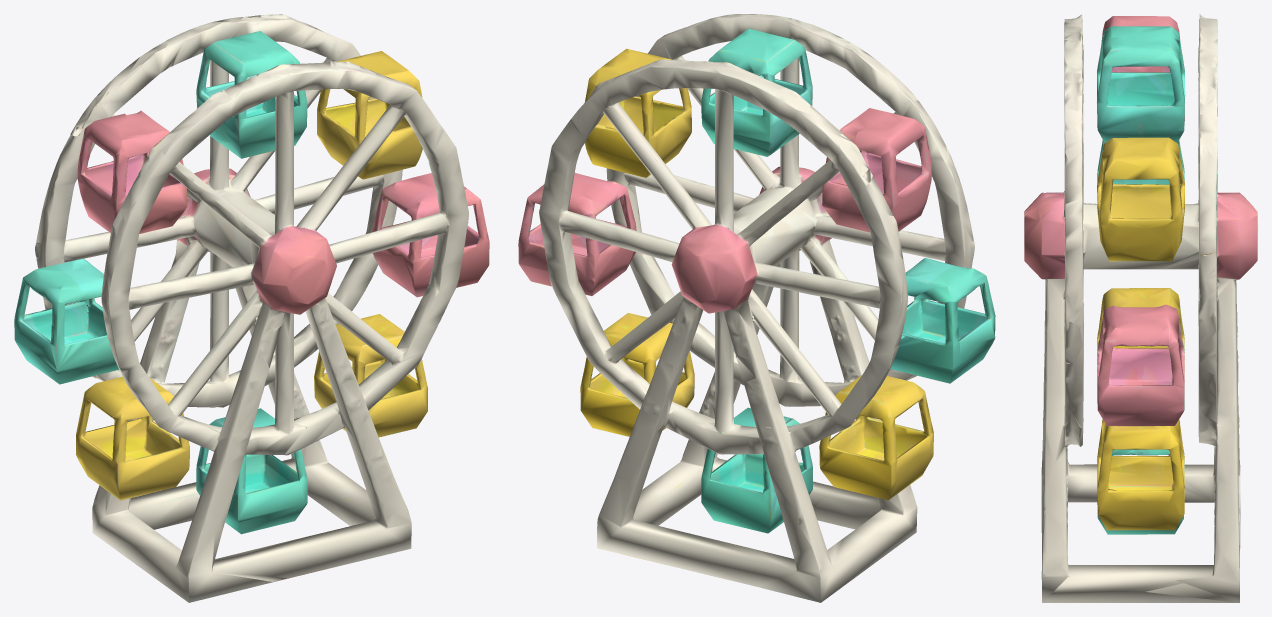
File: f1918f07-d6ac-4589-abe2-eeaf7ca703b2.glb
The picture shows the model from 3 angles, left to right: view 1: azimuth 30°, elevation 25°; view 2: azimuth 150°, elevation 25°; view 3: azimuth 270°, elevation 25°; orthographic projection. The views are drawn at different scales.
Visible parts, largest first — view 1: Mesh_0; view 2: Mesh_0; view 3: Mesh_0.
Part boxes in pixels (bbox=[...]): Mesh_0: bbox=[14, 14, 489, 602]; Mesh_0: bbox=[518, 14, 995, 602]; Mesh_0: bbox=[1024, 14, 1257, 602].
Size of the model in its own units: 1.74 by 1.9 by 0.783.
1 material, 1 textured.
